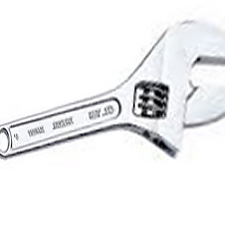wrench: (1, 22, 225, 169)
